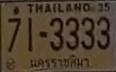1: (27, 18, 32, 50)
3: (49, 17, 63, 50), (80, 16, 94, 49), (65, 16, 78, 50), (96, 16, 109, 49)
7: (7, 17, 20, 51)
NMA: (27, 54, 90, 69)
